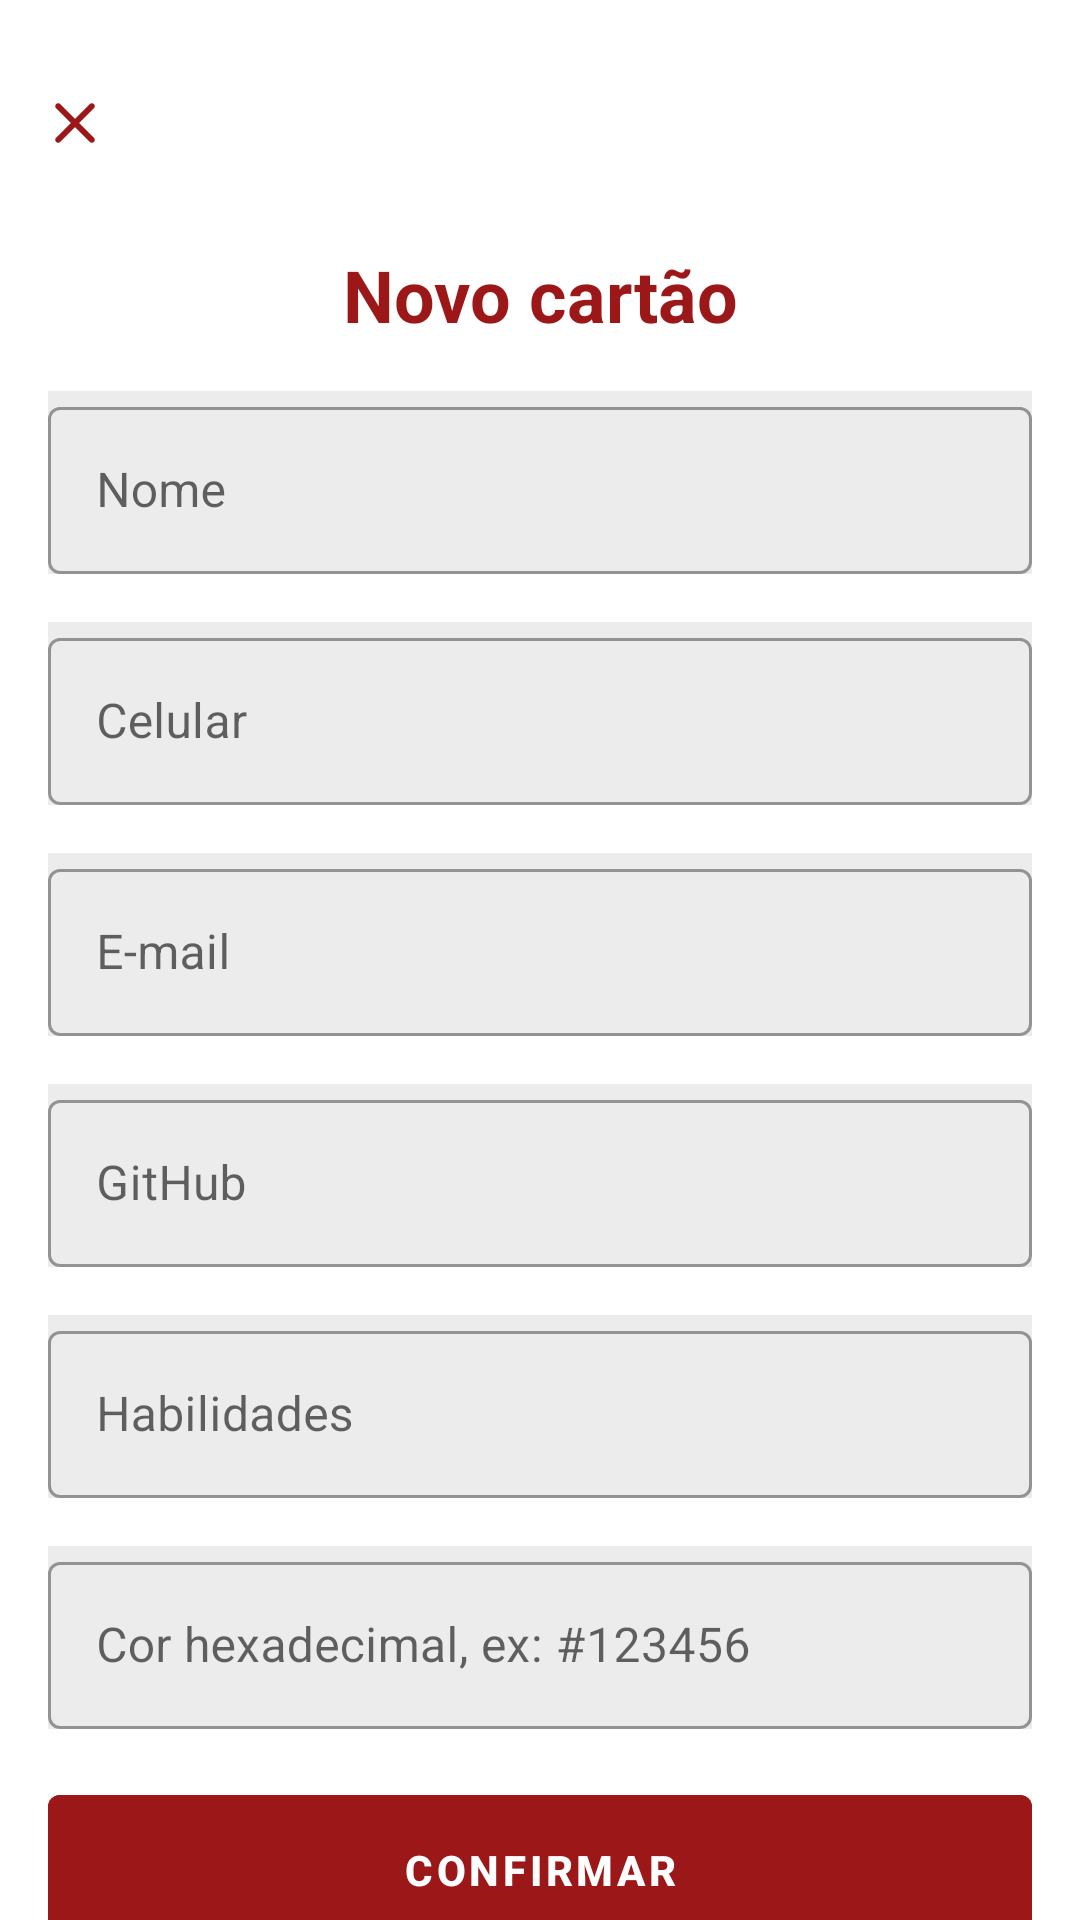

Point at icon controls on the screen. Image size 1080px×1920px, points as point (x, y).
Botão fechar: point (75, 123)
